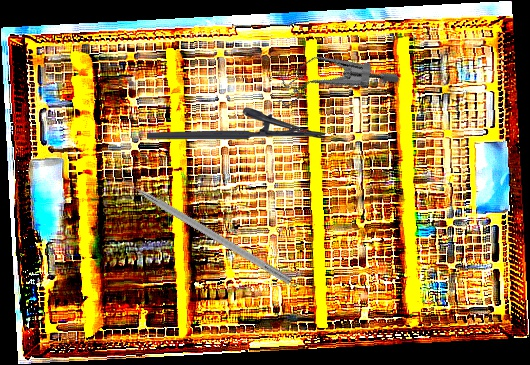Chopper: (114, 164, 299, 285)
Needle Holder: (147, 107, 325, 140)
Speculum: (265, 21, 402, 145)
